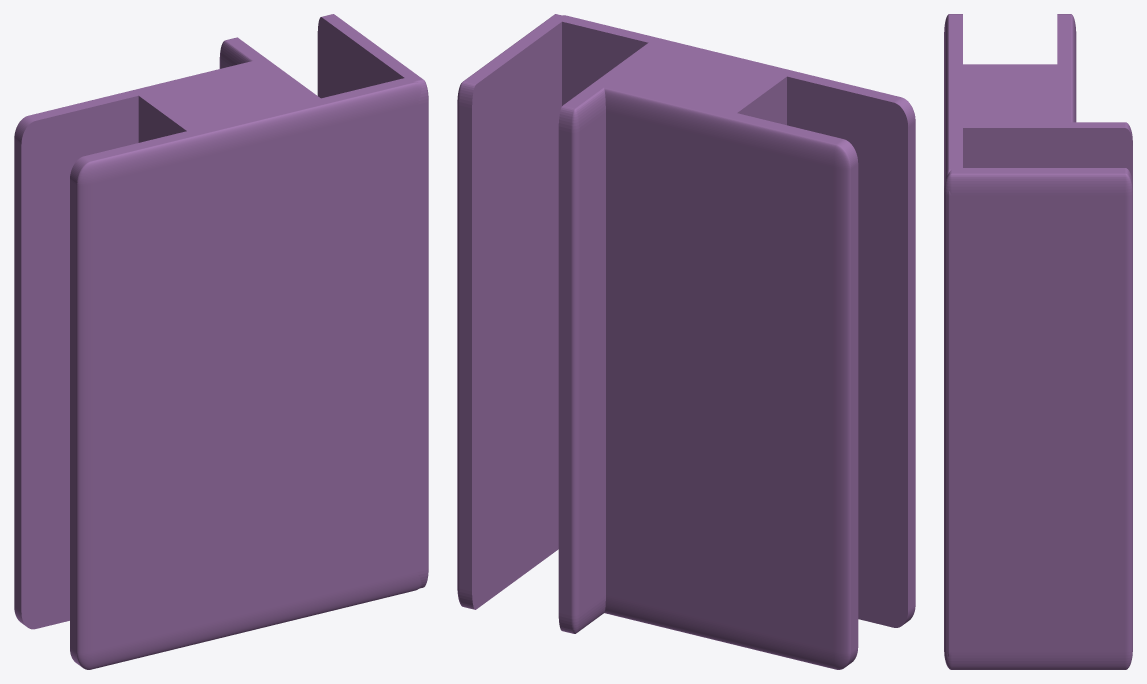
File: spacer_cube_riser_90_1.glb
The picture shows the model from 3 angles, left to right: view 1: azimuth 30°, elevation 25°; view 2: azimuth 150°, elevation 25°; view 3: azimuth 270°, elevation 25°; orthographic projection. The views are drawn at different scales.
Parts seen in each view (by area): view 1: Mesh_Mesh_head_geo.001_lambert2SG.001; view 2: Mesh_Mesh_head_geo.001_lambert2SG.001; view 3: Mesh_Mesh_head_geo.001_lambert2SG.001.
Part boxes in pixels (left/top/right/bottom): Mesh_Mesh_head_geo.001_lambert2SG.001: left=14, top=14, right=428, bottom=669; Mesh_Mesh_head_geo.001_lambert2SG.001: left=457, top=14, right=915, bottom=669; Mesh_Mesh_head_geo.001_lambert2SG.001: left=944, top=14, right=1132, bottom=669.
Size of the model in its own units: 0.0667 by 0.0921 by 0.0318.
